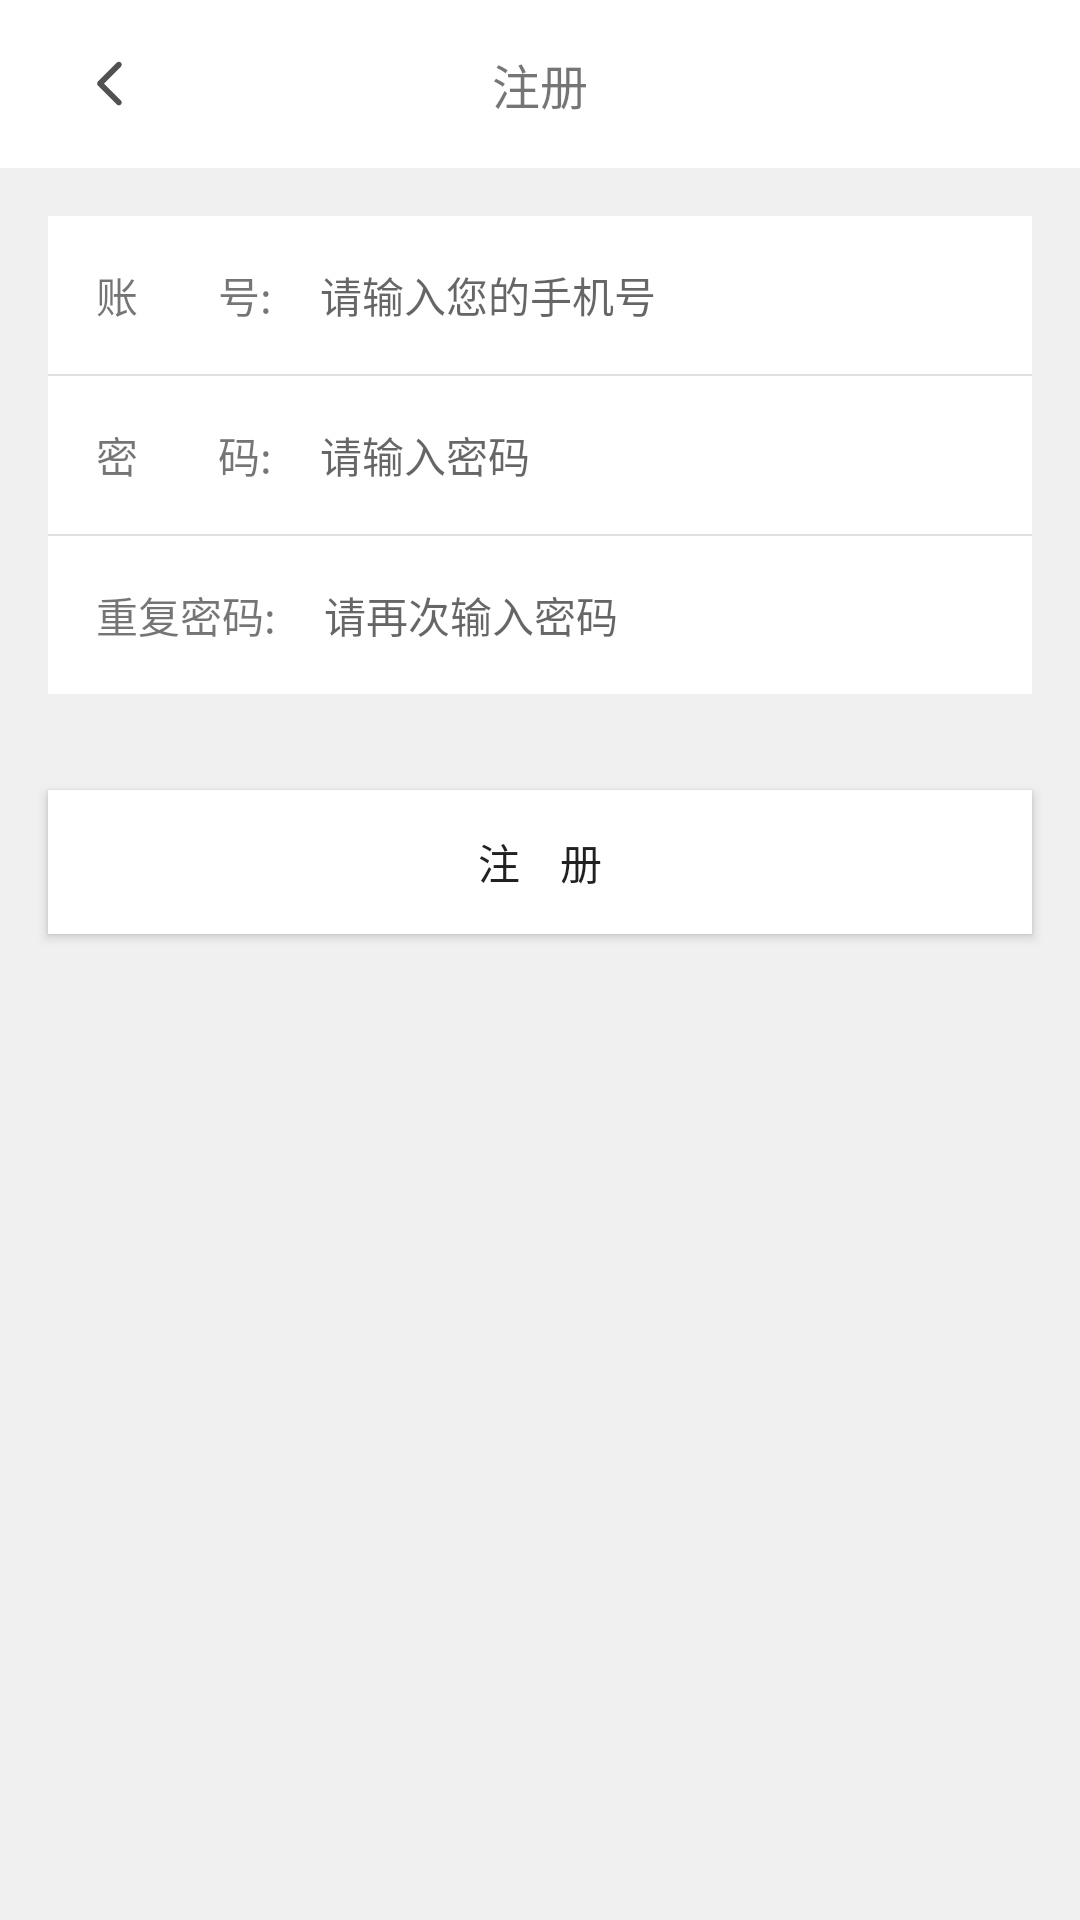

Icon bounding boxes for this 1080×1920 phone screenshot, format detection(x1, y1, x2, y2):
back: detection(97, 61, 122, 106)
